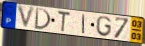7: (114, 16, 130, 40)
D: (34, 7, 53, 31)
G: (96, 15, 112, 37)
I: (81, 13, 86, 35)
T: (57, 9, 71, 33)
V: (16, 4, 37, 30)
